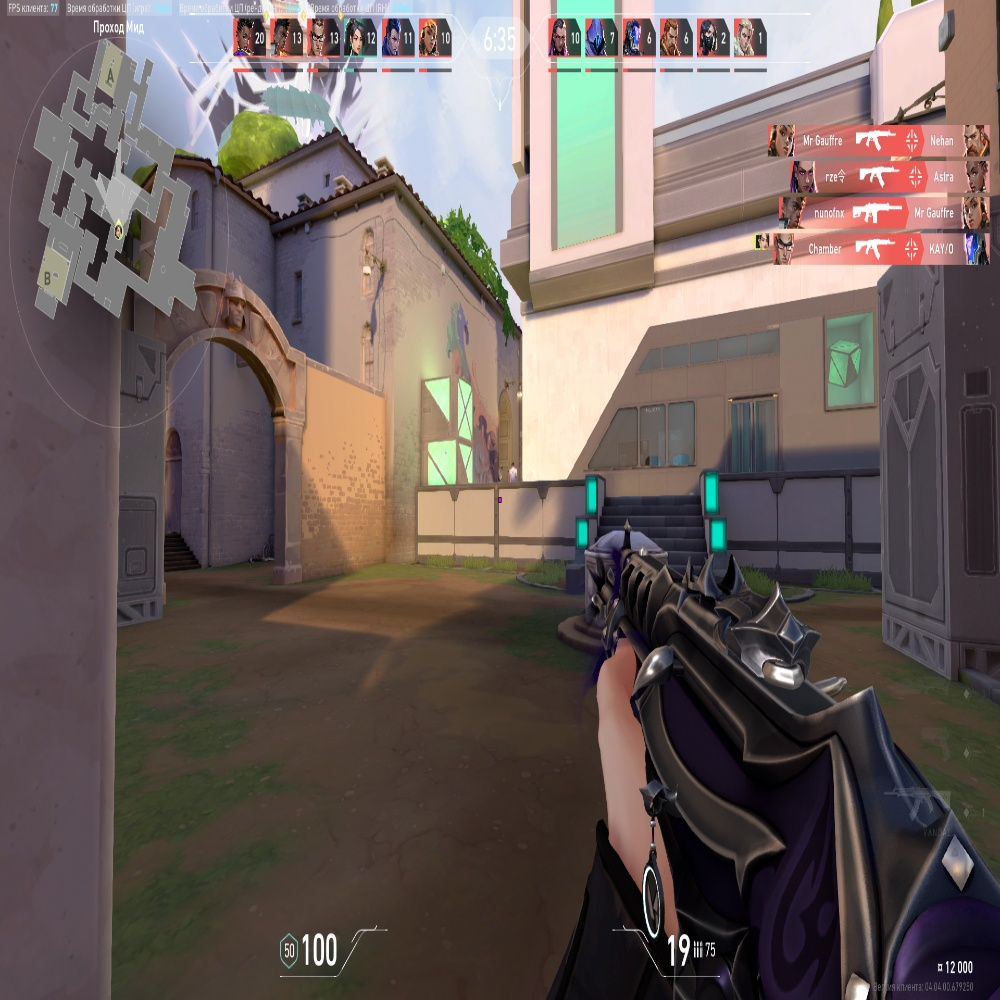body: (508, 469, 517, 481)
head: (511, 462, 514, 468)
